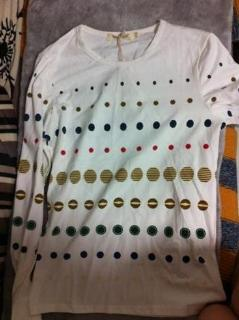long sleeve top: (9, 19, 239, 319)
